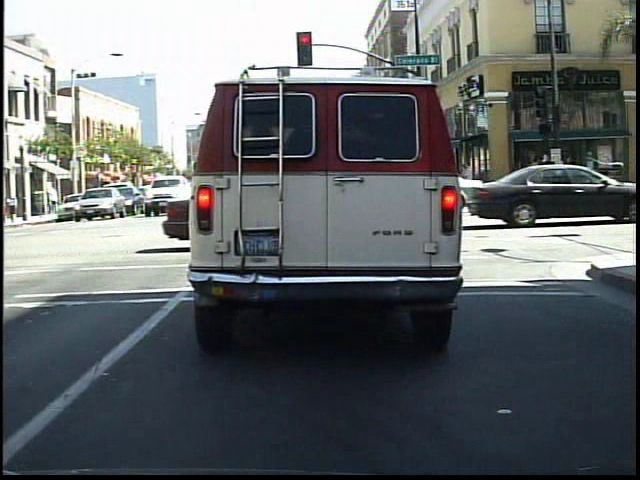person: (538, 154, 560, 205), (511, 158, 531, 205)
